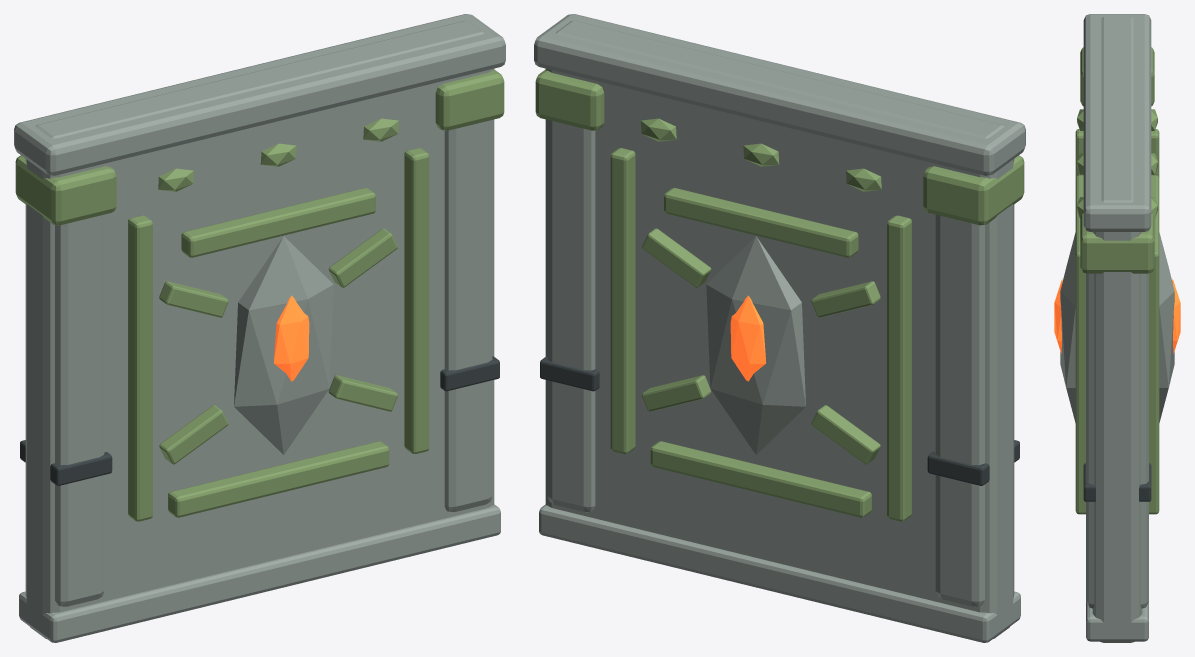
File: SM_EmbermereAncientRuinRelief_01.fbx
3 views of the same model, side by side, from view 1: azimuth 30°, elevation 25°; view 2: azimuth 150°, elevation 25°; view 3: azimuth 270°, elevation 25° (orthographic). The views are drawn at different scales.
Parts seen in each view (by area): view 1: SM_EmbermereAncientRuinRelief_01; view 2: SM_EmbermereAncientRuinRelief_01; view 3: SM_EmbermereAncientRuinRelief_01.
Boxes of the visible parts, x1,y1,x2,y2 form: SM_EmbermereAncientRuinRelief_01: (14,14,505,642); SM_EmbermereAncientRuinRelief_01: (534,14,1025,642); SM_EmbermereAncientRuinRelief_01: (1054,14,1180,642).
Size of the model in its own units: 206 by 55.81 by 216.
